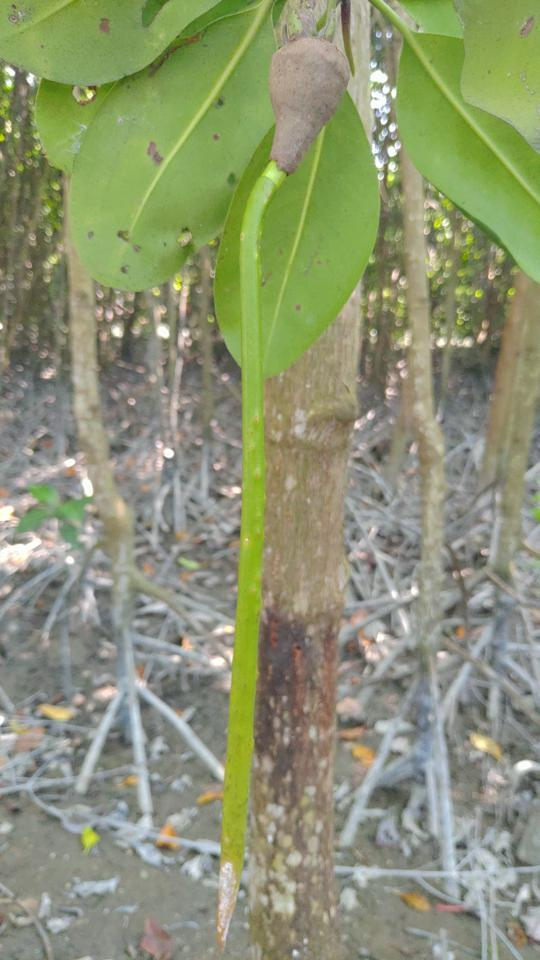setengah matang: (205, 25, 360, 948)
